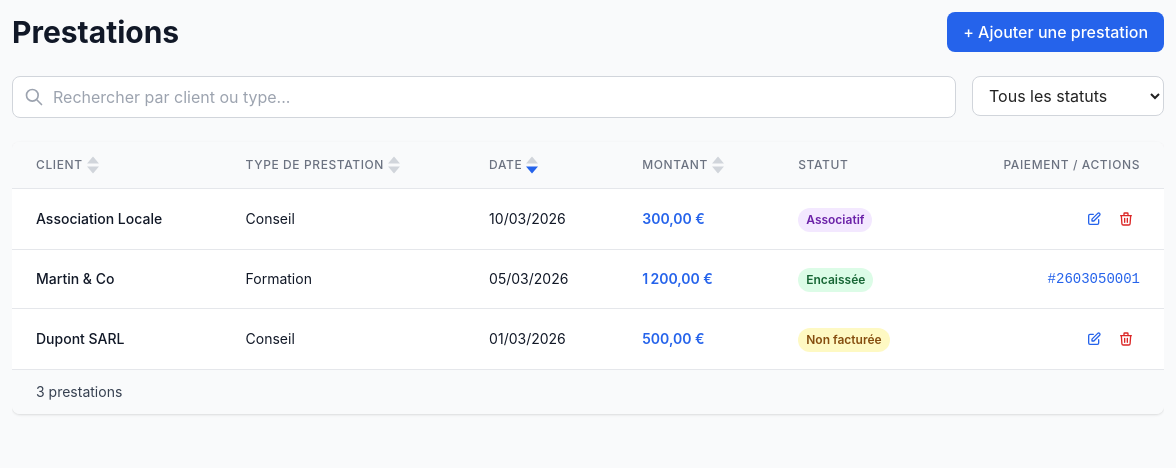
it: Prestations page › shows "Aucune prestation trouvée" when search yields no results
Step 1. Type "zzznonexistent" into the field with placeholder "Rechercher par client ou type..." → (484, 97), box left=12, top=76, right=956, bottom=118
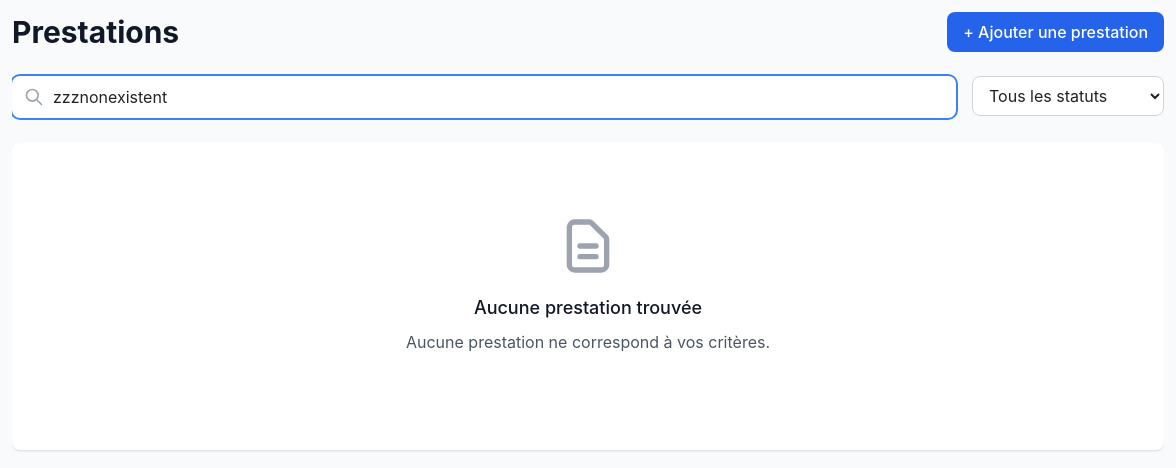
Now the heading "Aucune prestation trouvée" is shown, box left=474, top=297, right=702, bottom=318
